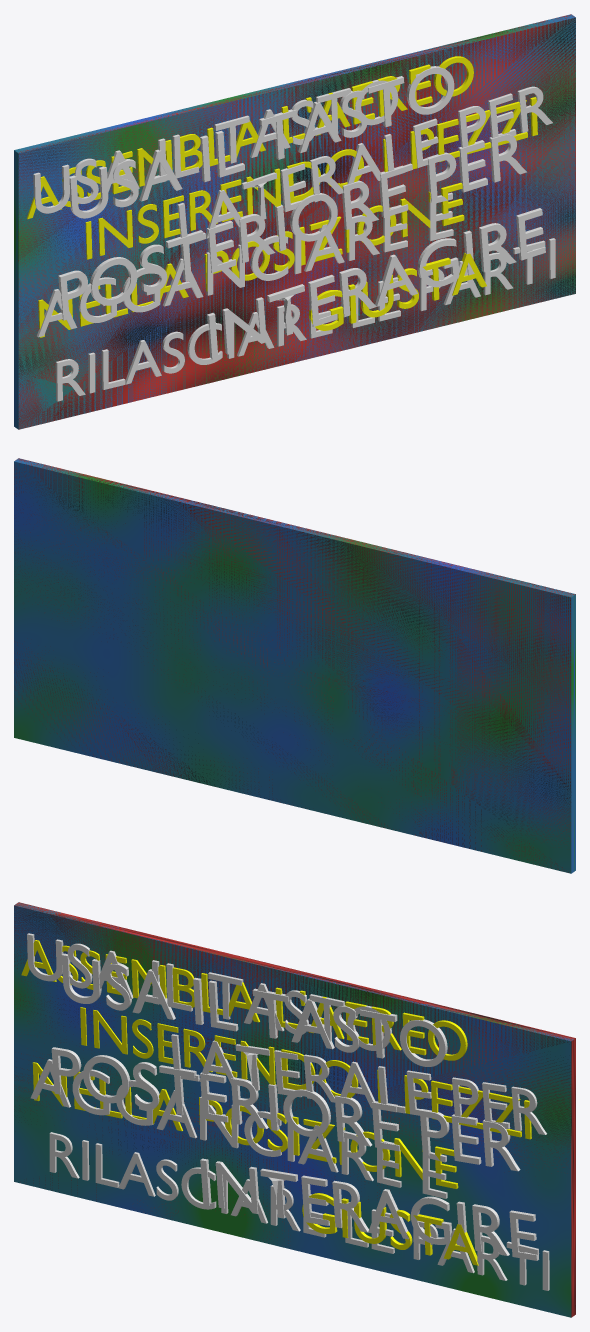
Rendered from cartelli_istruzioni.fbx.
The picture shows the model from 3 angles, top to bottom: view 1: azimuth 30°, elevation 25°; view 2: azimuth 150°, elevation 25°; view 3: azimuth 330°, elevation 25°; orthographic projection.
Parts seen in each view (by area): view 1: Cartello.001, CartelloRosso.002, Text.031, Text.032, Text.029, Text.030, Text.028, Text.027, Text.017, Text.015, Text.026, Text.018 (+2 smaller); view 2: Cartello.001, CartelloRosso.002; view 3: Cartello.001, CartelloRosso.002, Text.031, Text.032, Text.029, CartelloRosso.003, Text.030, Text.027, Text.028, Text.017, Text.015, Text.026 (+2 smaller).
Part boxes in pixels (x1,y1,x2,y2): Cartello.001: [14, 14, 575, 429]; CartelloRosso.002: [18, 18, 575, 429]; Text.031: [58, 134, 526, 320]; Text.032: [207, 208, 545, 359]; Text.029: [55, 238, 555, 401]; Text.030: [69, 66, 454, 218]; Text.028: [37, 192, 453, 337]; Text.027: [177, 86, 552, 246]; Text.017: [85, 97, 537, 259]; Text.015: [27, 56, 473, 219]; Text.026: [33, 80, 398, 213]; Text.018: [38, 182, 464, 337]; Cartello.001: [14, 458, 575, 873]; CartelloRosso.002: [14, 458, 575, 872]; Cartello.001: [14, 902, 573, 1317]; CartelloRosso.002: [14, 902, 575, 1317]; Text.031: [51, 1047, 520, 1171]; Text.032: [200, 1158, 538, 1260]; Text.029: [49, 1132, 549, 1290]; CartelloRosso.003: [14, 903, 575, 1285]; Text.030: [61, 953, 447, 1066]; Text.027: [171, 1034, 546, 1134]; Text.028: [30, 1059, 447, 1198]; Text.017: [80, 1007, 531, 1139]; Text.015: [21, 940, 467, 1060]; Text.026: [27, 933, 391, 1050].
Bounding box in the file's own units: 1.9 × 0.899 × 0.061.
